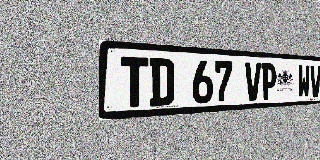6: (192, 60, 213, 104)
7: (214, 61, 232, 103)
D: (149, 58, 174, 107)
P: (261, 63, 276, 100)
T: (120, 56, 148, 108)
V: (245, 62, 261, 101), (310, 65, 320, 97)
W: (298, 65, 310, 98)
